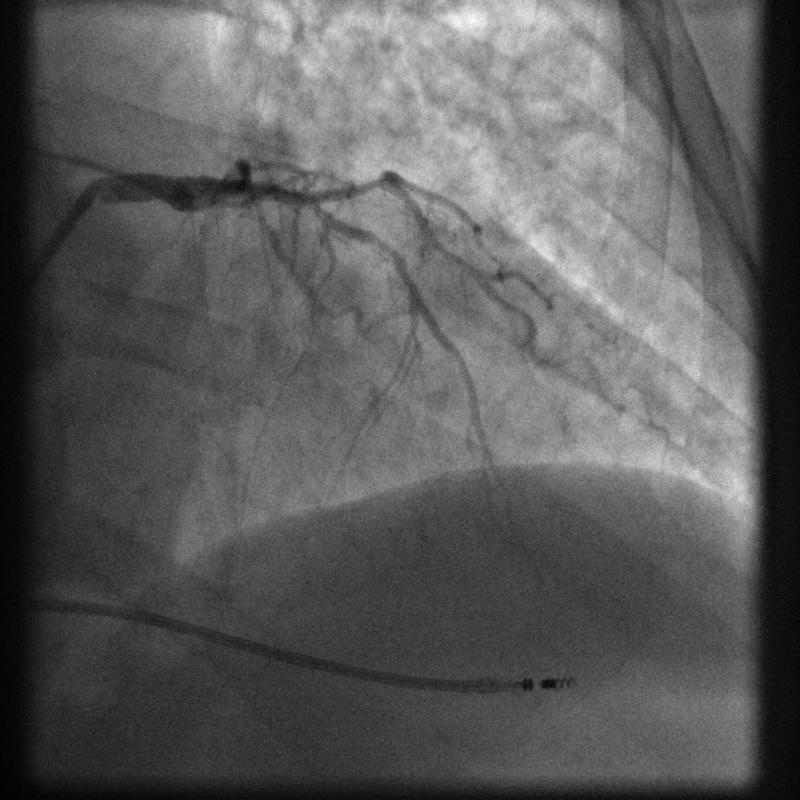Stenosis: (364, 234, 404, 266)
